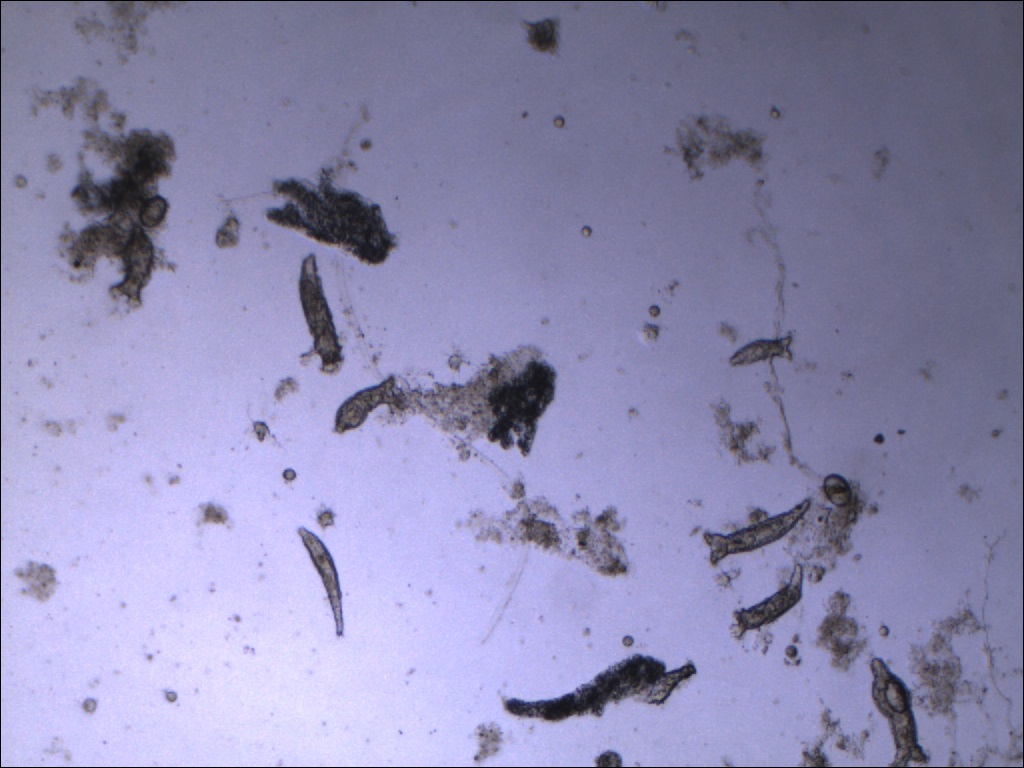amoeba: (262, 160, 397, 265), (497, 650, 675, 727), (483, 356, 561, 461)
